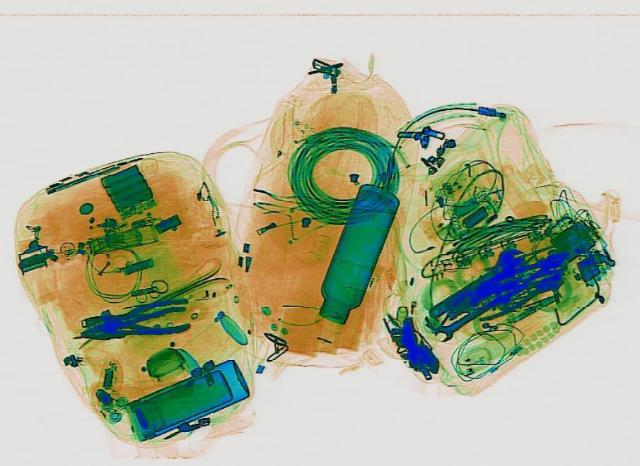Pliers: (463, 240, 577, 308), (75, 303, 192, 345)
Wrench: (418, 242, 532, 319), (425, 295, 499, 343)
